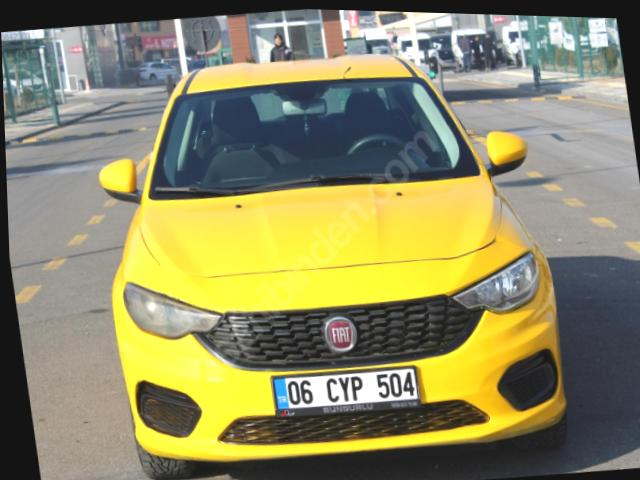plaka: (273, 367, 420, 415)
